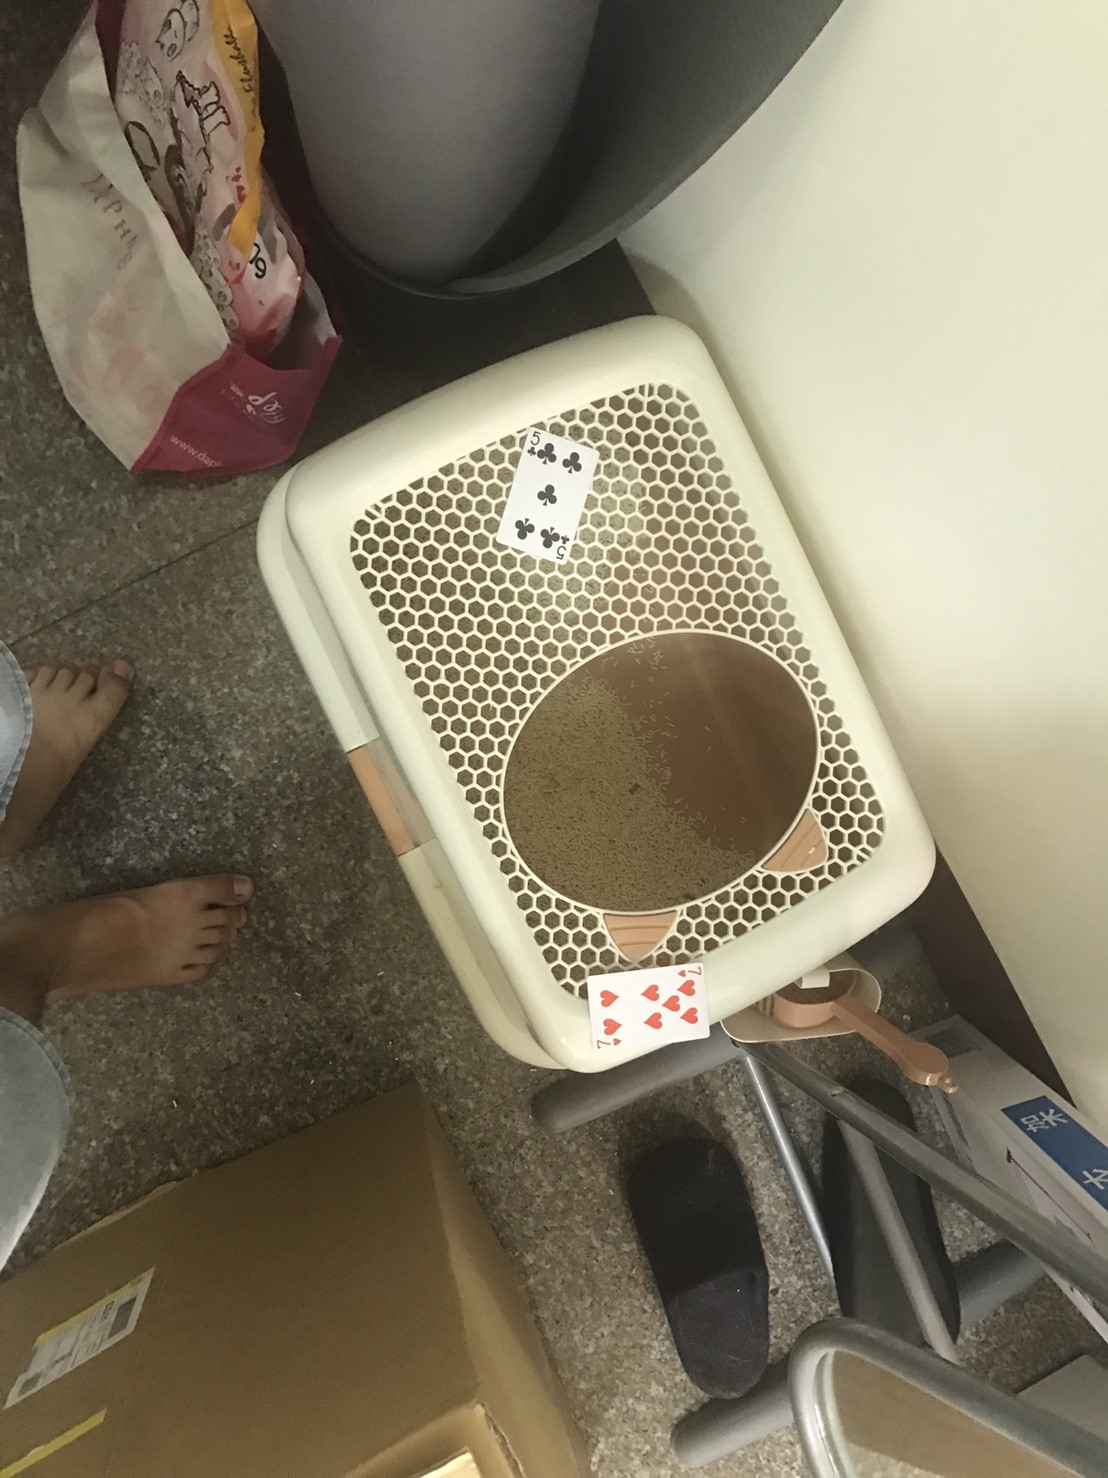clubs: (514, 517, 535, 542), (537, 483, 557, 507), (562, 452, 583, 476), (537, 443, 557, 466), (541, 526, 560, 550), (525, 443, 537, 459), (561, 535, 571, 546)
hearts: (642, 1011, 665, 1031), (602, 1017, 626, 1035), (679, 1007, 699, 1026), (599, 989, 622, 1008), (677, 980, 697, 997), (662, 995, 682, 1012), (640, 985, 661, 1001), (677, 968, 686, 979), (612, 1038, 623, 1045)
